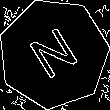N_SE: (23, 22, 84, 86)
